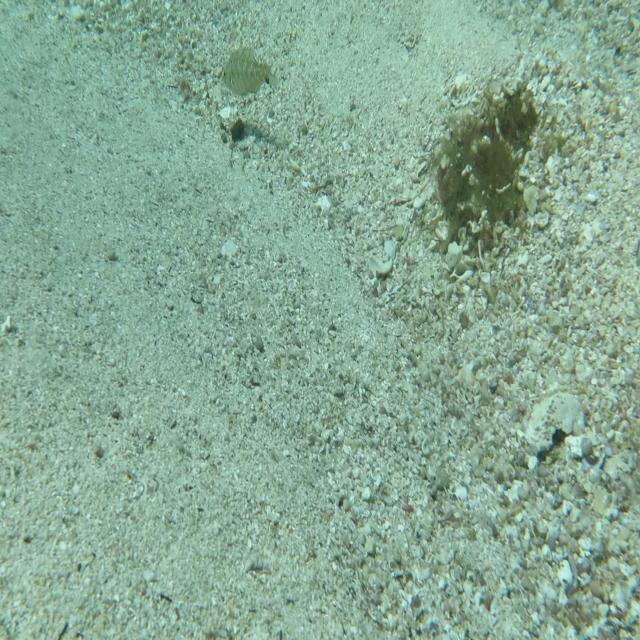SA: (220, 36, 280, 98)
core_nest: (491, 94, 526, 130)
nest: (440, 71, 539, 262)
vegetation: (225, 113, 248, 144), (177, 72, 193, 104)
